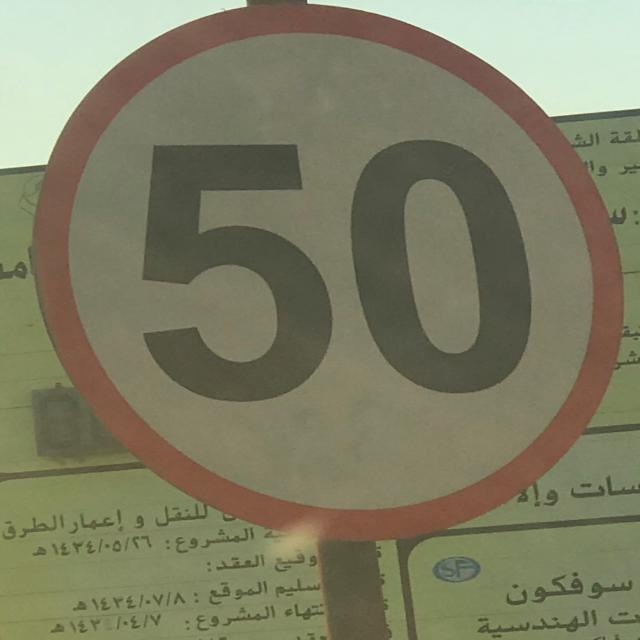Limite-50: (29, 2, 626, 544)
